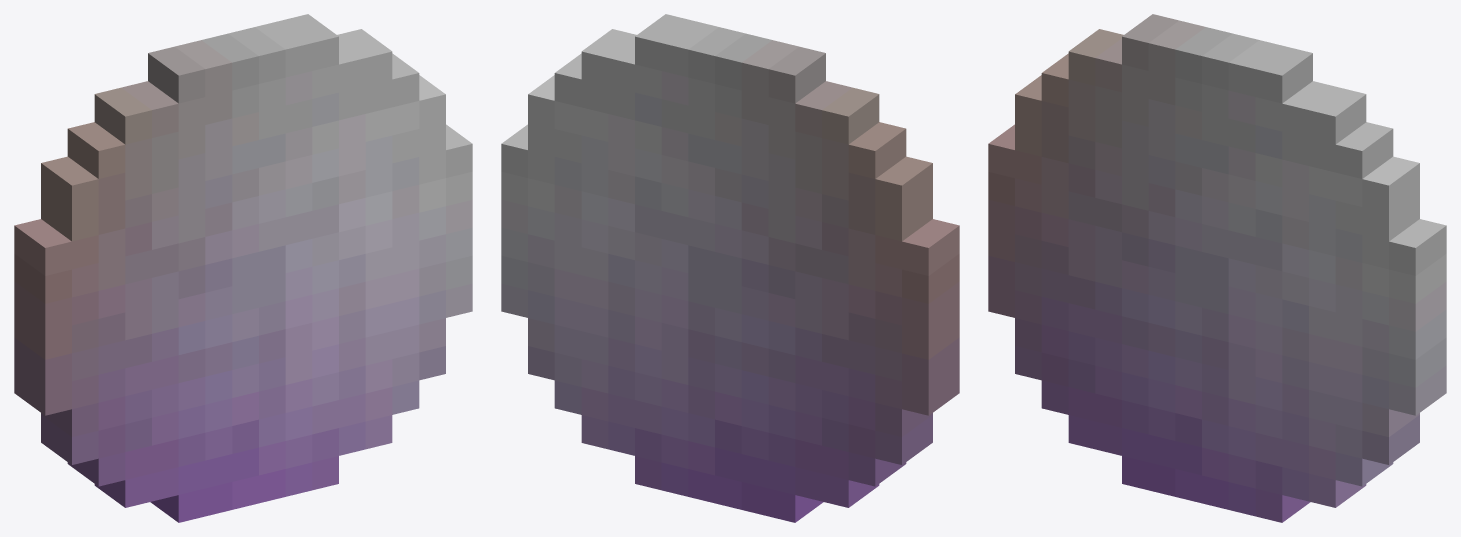
File: volleyball.glb
3 views of the same model, side by side, from view 1: azimuth 30°, elevation 25°; view 2: azimuth 150°, elevation 25°; view 3: azimuth 330°, elevation 25° (orthographic).
Parts seen in each view (by area): view 1: prop; view 2: prop; view 3: prop.
Boxes of the visible parts, x1,y1,x2,y2 form: prop: [14, 14, 472, 522]; prop: [501, 14, 959, 522]; prop: [988, 14, 1446, 522].
Bounding box in the file's own units: 16 × 16 × 2.
